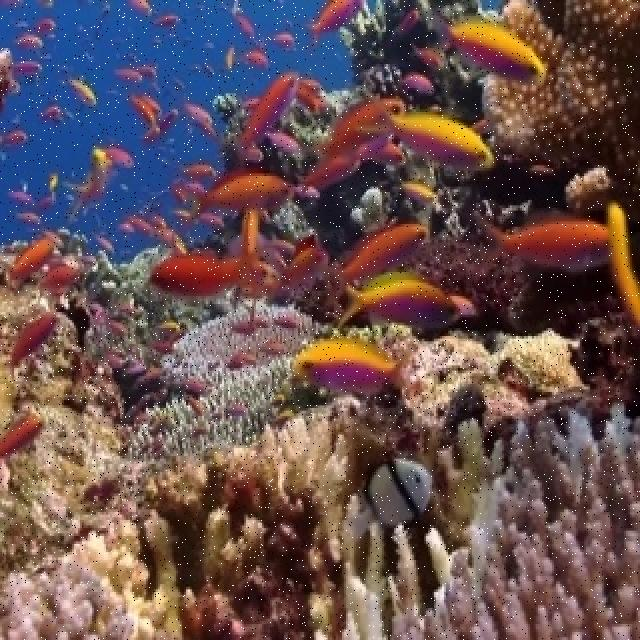fish: (352, 100, 494, 171), (427, 8, 548, 85), (318, 223, 430, 300), (476, 214, 611, 271), (344, 457, 434, 542), (338, 270, 466, 327), (293, 335, 416, 394), (184, 167, 296, 223), (149, 248, 262, 298), (232, 71, 299, 154), (0, 314, 61, 380), (6, 237, 59, 290), (305, 0, 360, 45), (32, 259, 83, 303), (2, 420, 44, 459)
reefs: (0, 393, 638, 637), (127, 299, 337, 464), (482, 0, 638, 216)
